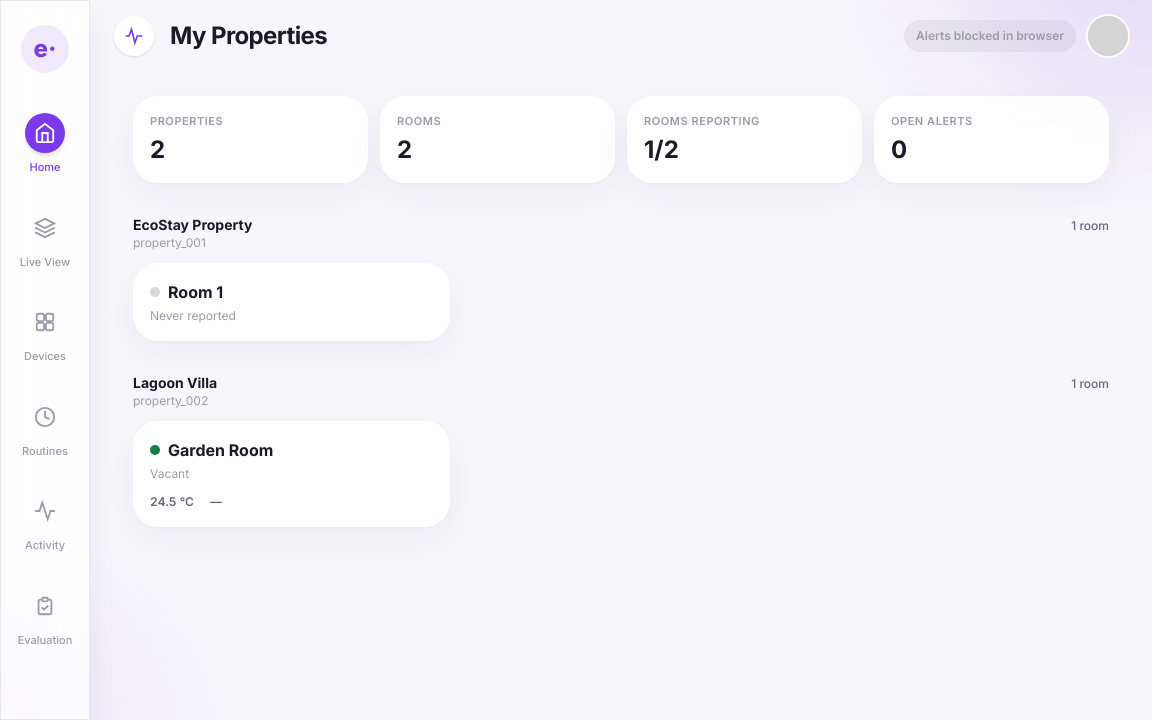
Test case: dashboard tenancy › lists multiple rooms and opens the picked one
Click the button "Garden Room Vacant 24.5 °C —". click: coordinates (221, 450)
box: [133, 420, 450, 526]
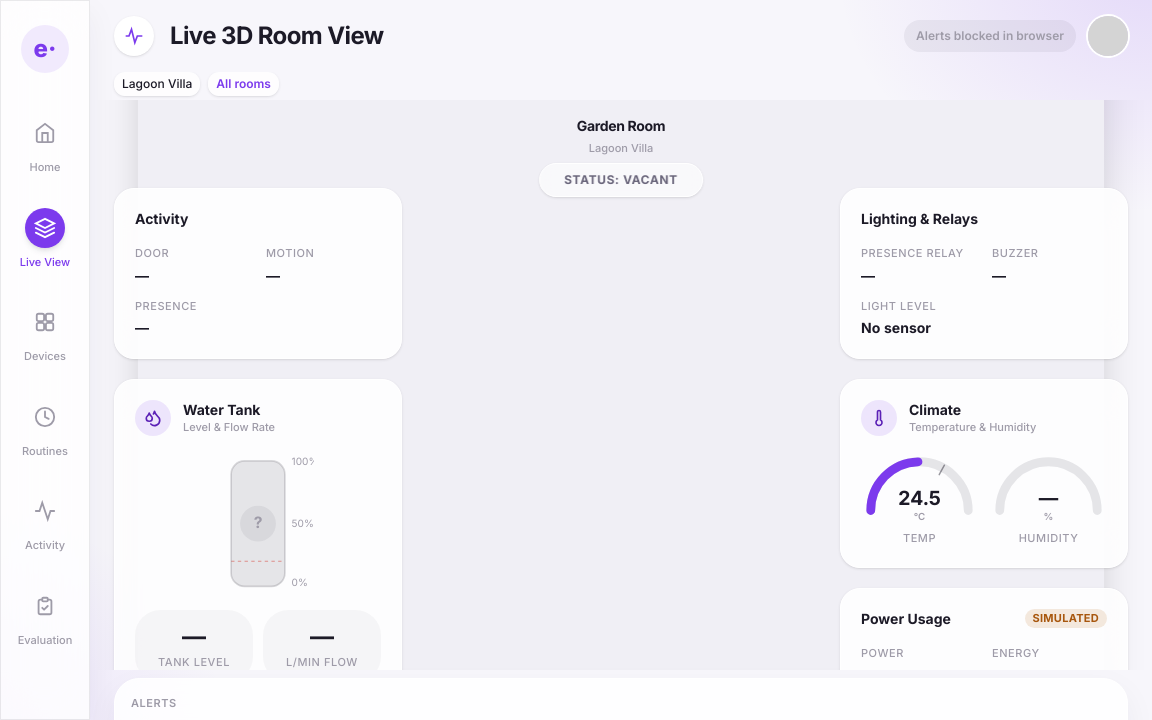
Check: the picture "24.5 °C" is shown, box [861, 452, 978, 528]
Check: the text "Status: Vacant" is shown, box [539, 162, 703, 196]
Click the button "Home". click: coordinates (45, 144)
box: [13, 105, 77, 184]
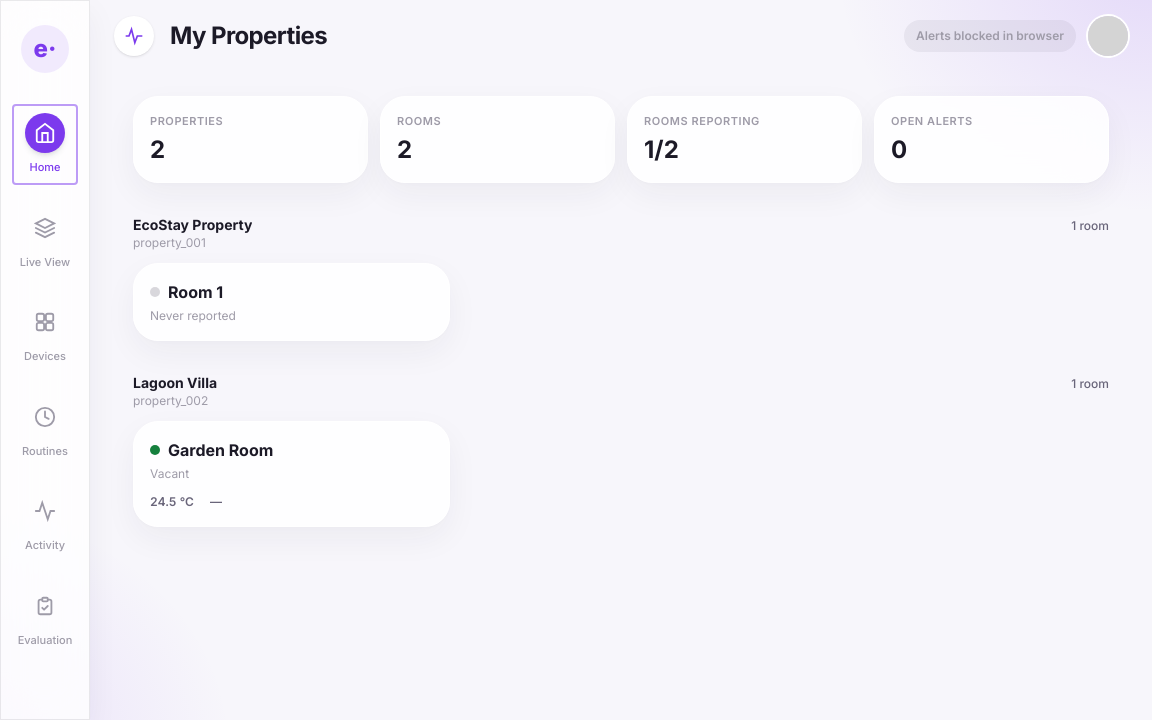
Check: the button "Room 1 Never reported" is shown, box [133, 262, 450, 340]
